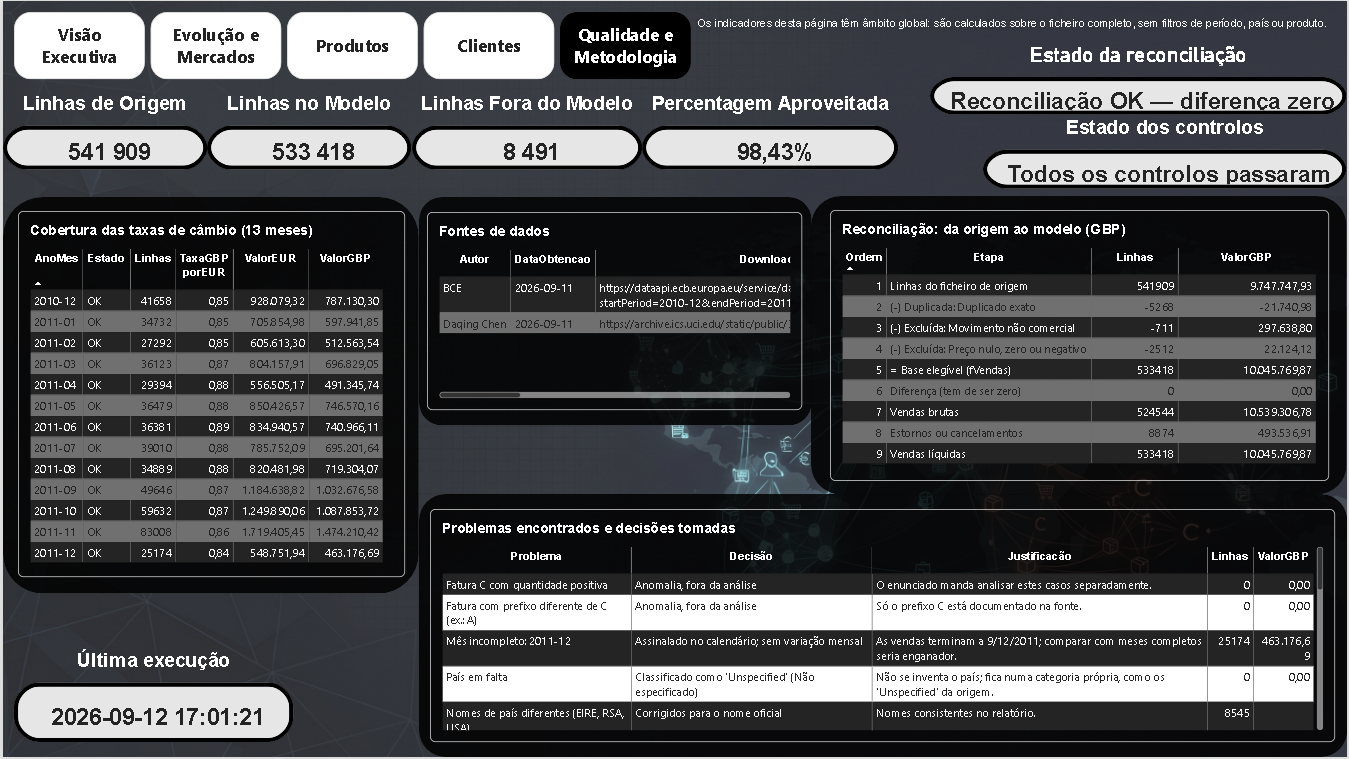

The page's visual inventory and layout, read from the dashboard file:
{"tool":"powerbi","page":{"name":"Qualidade e Metodologia","canvas":[1920,1080],"ordinal":4},"visuals":[{"type":"textbox","box":[992.9,21.9,927.1,30.2],"z":0},{"type":"pageNavigator","box":[15,15,971.7,96.7],"z":1000},{"type":"cardVisual","title":"Linhas de Origem","fields":{"Data":["_MedidasQa.Texto Linhas Origem"]},"box":[0,130.3,292.1,111.1],"z":2000},{"type":"cardVisual","title":"Estado dos controlos","fields":{"Data":["_MedidasQa.Estado dos Controlos"]},"box":[1324.7,164.9,595.9,103.7],"z":3000},{"type":"cardVisual","title":"Percentagem Aproveitada","fields":{"Data":["_MedidasQa.Percentagem Aproveitada"]},"box":[913.4,130.3,366.2,111.1],"z":4000},{"type":"cardVisual","title":"Linhas Fora do Modelo","fields":{"Data":["_MedidasQa.Texto Fora Modelo"]},"box":[584.2,130.3,329.1,111.1],"z":5000},{"type":"cardVisual","title":"Estado da reconciliação","fields":{"Data":["_MedidasQa.Estado da Reconciliacao"]},"box":[1324.8,59,595.2,104.2],"z":6000},{"type":"cardVisual","title":"Linhas no Modelo","fields":{"Data":["_MedidasQa.Texto Linhas Modelo"]},"box":[292.1,130.3,292.1,111.1],"z":7000},{"type":"shape","box":[1154.7,278.4,765.3,426.5],"z":8000},{"type":"tableEx","title":"Reconciliação: da origem ao modelo (GBP)","fields":{"Values":["qa_reconciliacao.Ordem","qa_reconciliacao.Etapa","qa_reconciliacao.Linhas","qa_reconciliacao.ValorGBP"]},"box":[1180.8,299,713.1,386.7],"z":9000},{"type":"shape","box":[593.8,704.9,1326.2,375.8],"z":10000},{"type":"tableEx","title":"Problemas encontrados e decisões tomadas","fields":{"Values":["qa_problemas_decisoes.Problema","qa_problemas_decisoes.Decisao","qa_problemas_decisoes.Justificacao","qa_problemas_decisoes.Linhas","qa_problemas_decisoes.ValorGBP"]},"box":[610.3,725.5,1293.3,333.3],"z":11000},{"type":"shape","box":[0,279.8,593.8,566.4],"z":12000},{"type":"tableEx","title":"Cobertura das taxas de câmbio (13 meses)","fields":{"Values":["qa_cobertura_cambio.AnoMes","qa_cobertura_cambio.Estado","qa_cobertura_cambio.Linhas","qa_cobertura_cambio.TaxaGBPporEUR","qa_cobertura_cambio.ValorEUR","qa_cobertura_cambio.ValorGBP"]},"box":[21.9,300.3,552.7,522.5],"z":13000},{"type":"shape","box":[593.8,279.8,560.9,326.4],"z":14000},{"type":"tableEx","title":"Fontes de dados","fields":{"Values":["qa_fontes.Autor","qa_fontes.DataObtencao","qa_fontes.Download","qa_fontes.Fonte","qa_fontes.Metodo","qa_fontes.Licenca","qa_fontes.Pagina","qa_fontes.Periodo"]},"box":[606.2,301.7,536.2,282.5],"z":15000},{"type":"cardVisual","title":"Última execução","fields":{"Data":["_MedidasQa.Ultima Execucao"]},"box":[15.1,925.7,399.1,133],"z":16000}]}

Visuals, with their boxes in screenshot pixels (x1, y1, x2, y2), scaled from the page's 1920x1080 canvas onto the 1349x759 screenshot:
textbox: region(698, 15, 1348, 37)
pageNavigator: region(11, 11, 693, 79)
"Linhas de Origem" cardVisual: region(0, 92, 205, 170)
"Estado dos controlos" cardVisual: region(931, 116, 1348, 189)
"Percentagem Aproveitada" cardVisual: region(642, 92, 899, 170)
"Linhas Fora do Modelo" cardVisual: region(410, 92, 642, 170)
"Estado da reconciliação" cardVisual: region(931, 41, 1348, 115)
"Linhas no Modelo" cardVisual: region(205, 92, 410, 170)
shape: region(811, 196, 1348, 495)
"Reconciliação: da origem ao modelo (GBP)" tableEx: region(830, 210, 1331, 482)
shape: region(417, 495, 1348, 758)
"Problemas encontrados e decisões tomadas" tableEx: region(429, 510, 1337, 744)
shape: region(0, 197, 417, 595)
"Cobertura das taxas de câmbio (13 meses)" tableEx: region(15, 211, 404, 578)
shape: region(417, 197, 811, 426)
"Fontes de dados" tableEx: region(426, 212, 803, 411)
"Última execução" cardVisual: region(11, 651, 291, 744)
